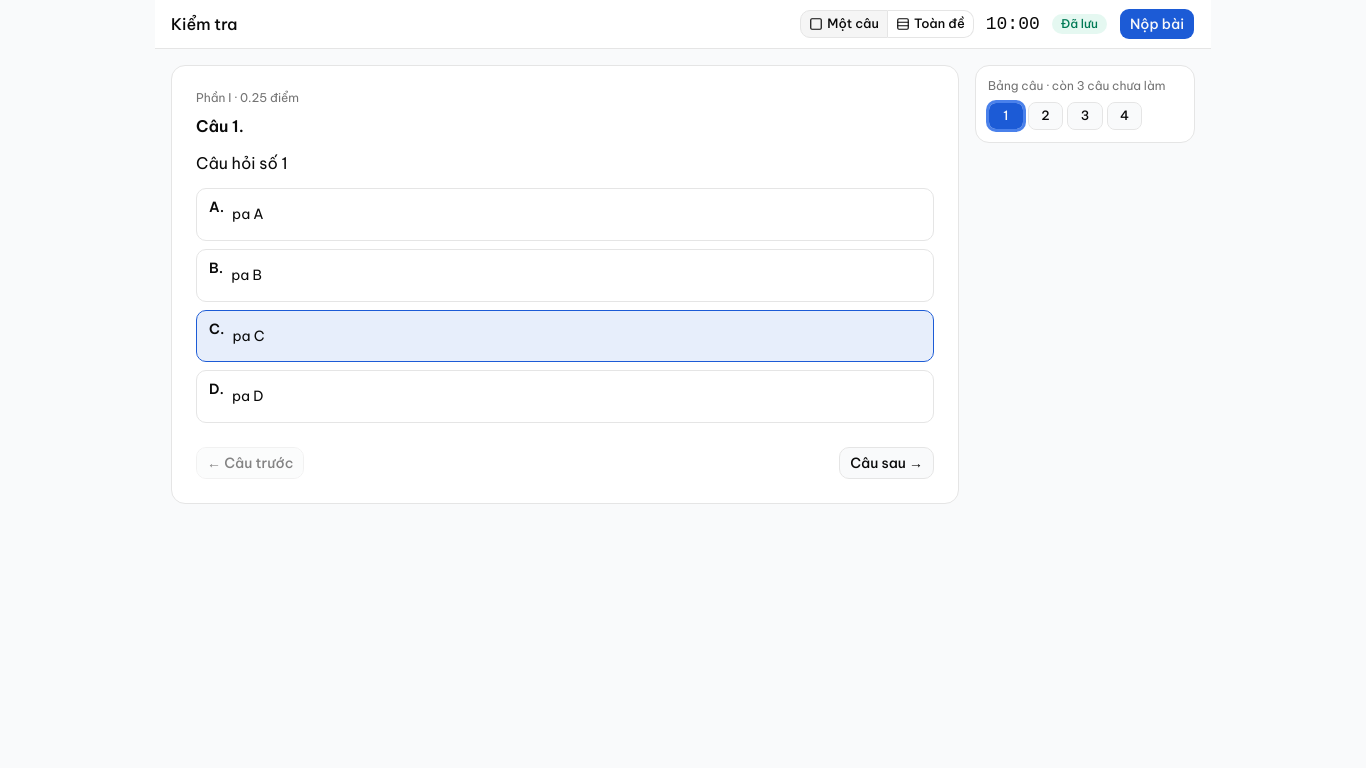
Test: exam runner › lays the whole paper out and comes back to the question the student was on (AC-02)
Expected: the number of elements with test id "exam-question" is 1, [171,65,959,504]
Click the button named "Câu 3": (1085, 116) [1067,102,1103,130]
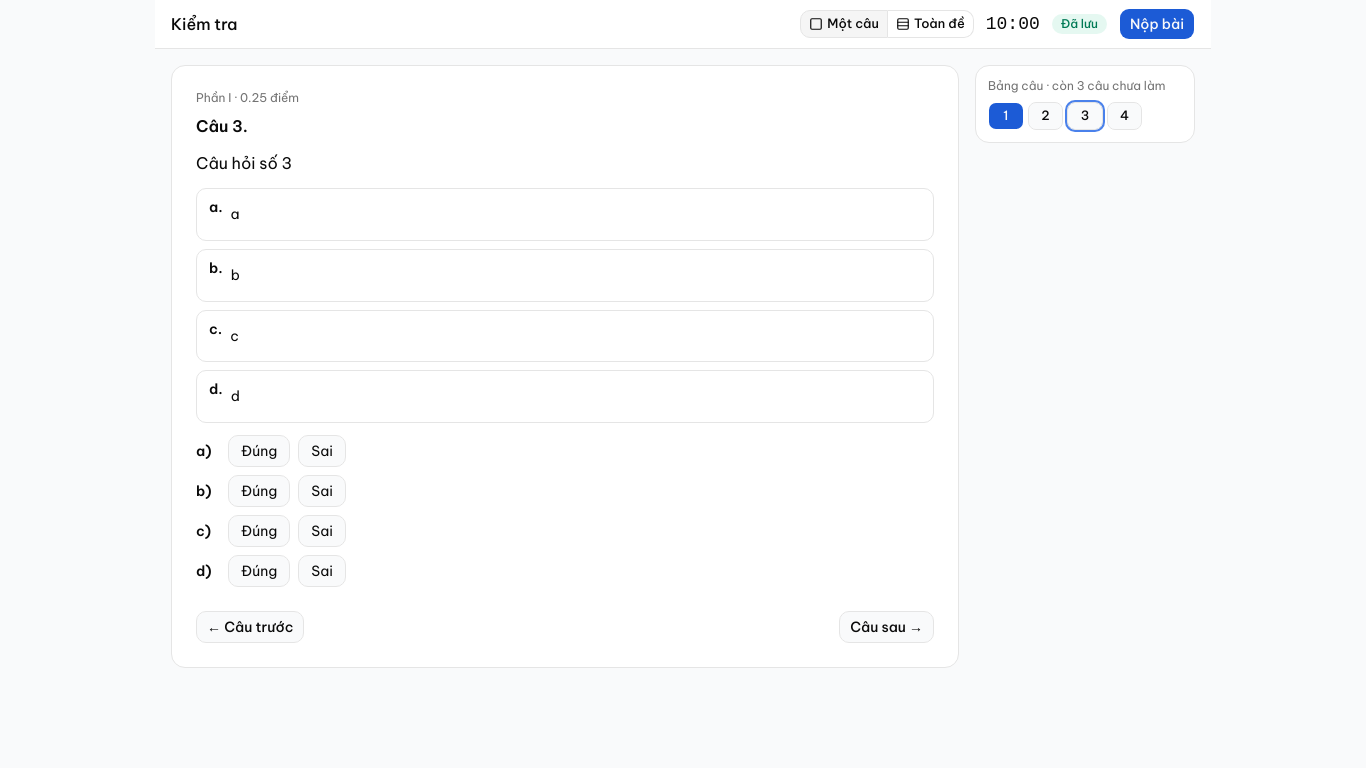
Click the radio button labelled "Toàn đề": (931, 24) [888,10,974,38]
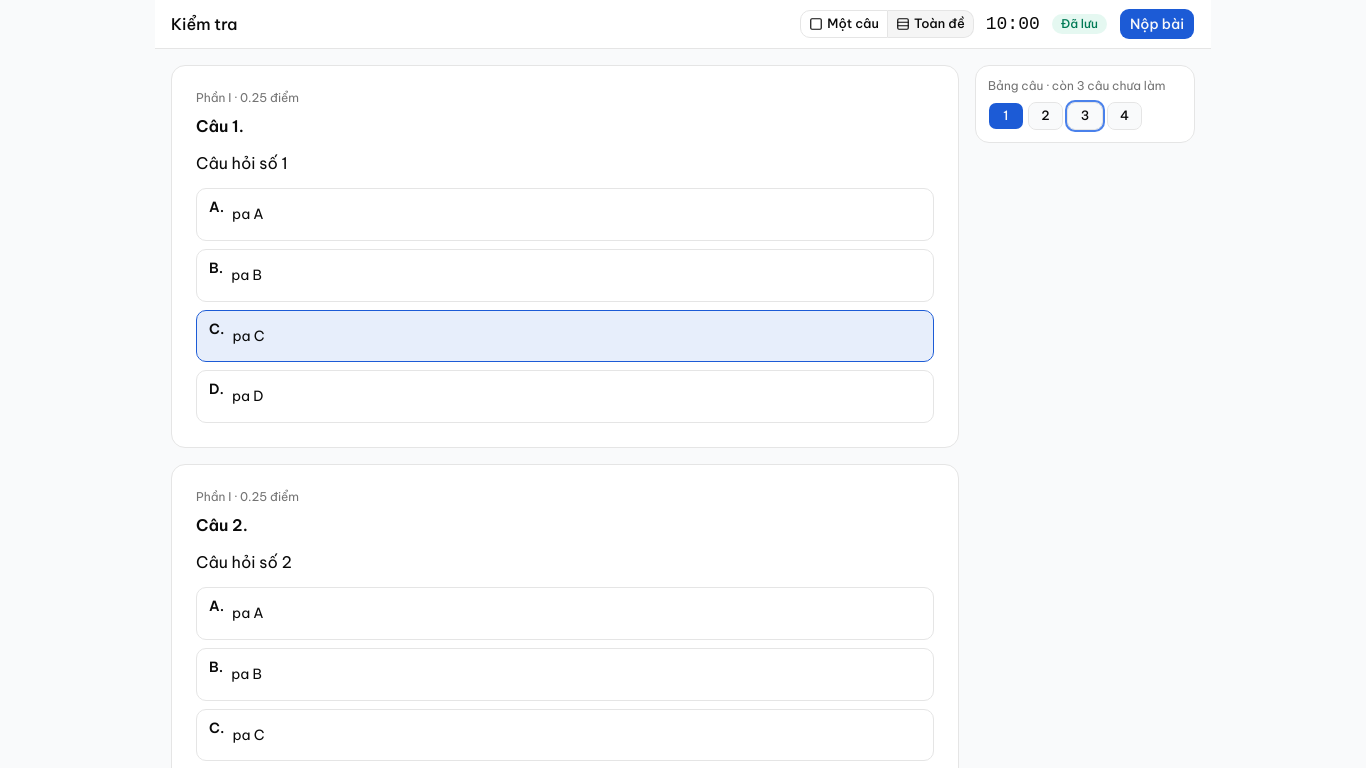
Expected: the text "10:00" is shown, [986,10,1040,38]
Result: the number of elements with test id "exam-question" is 4
Result: the element with test id "exam-question" shows "Câu hỏi số 1" at [196,153,288,173]
Click the radio button labelled "Một câu": (844, 24) [800,10,888,38]
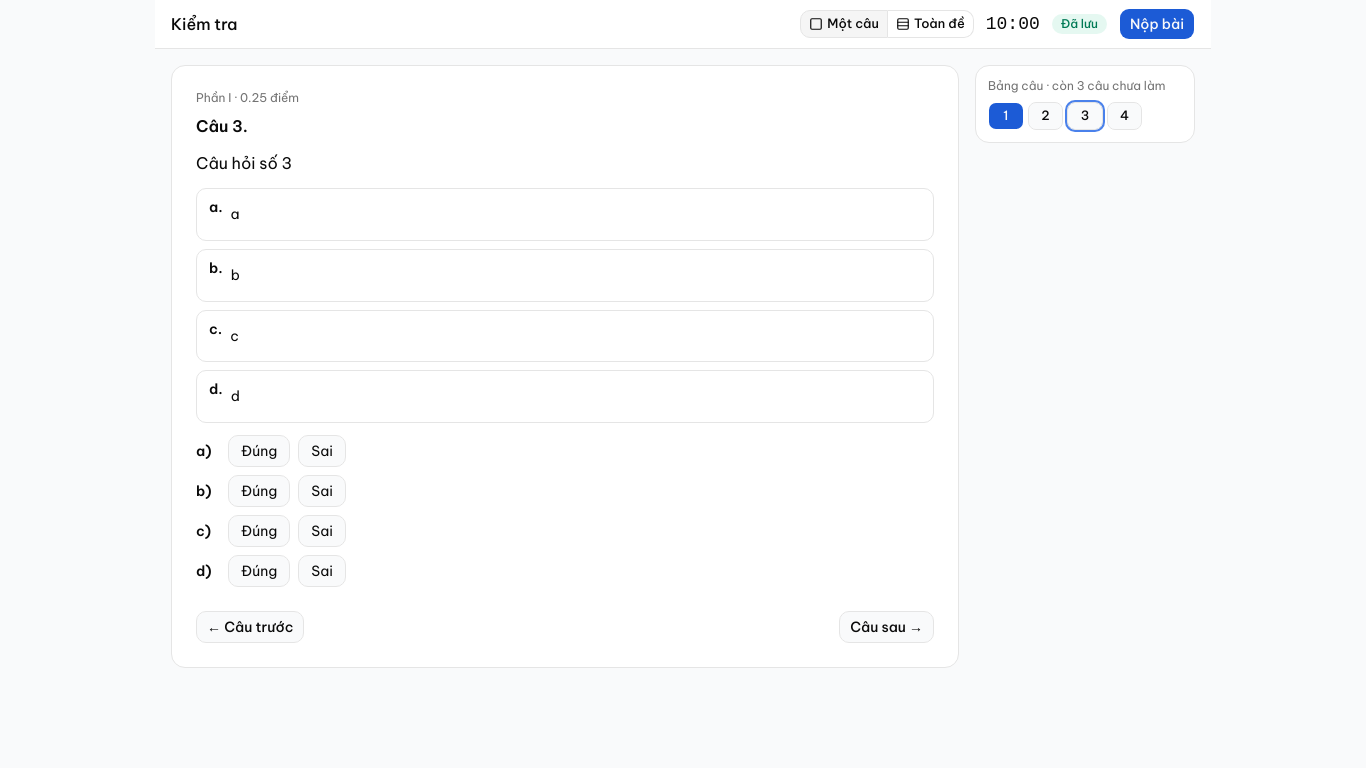
Result: the number of elements with test id "exam-question" is 1 at [171,65,959,668]
Result: the element with test id "exam-question" shows "Câu hỏi số 3" at [196,153,292,173]
